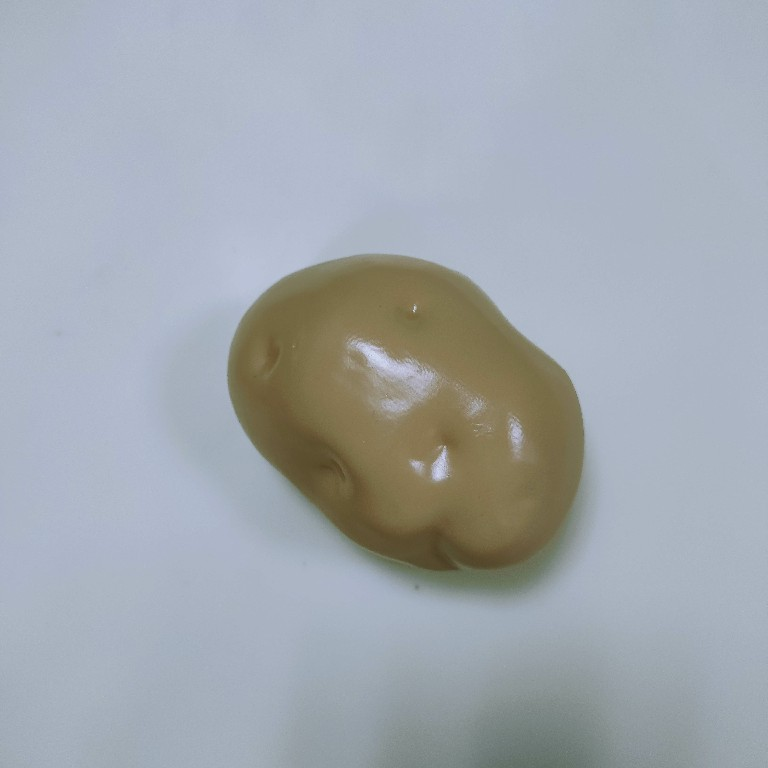fruit_potato: (221, 247, 591, 581)
